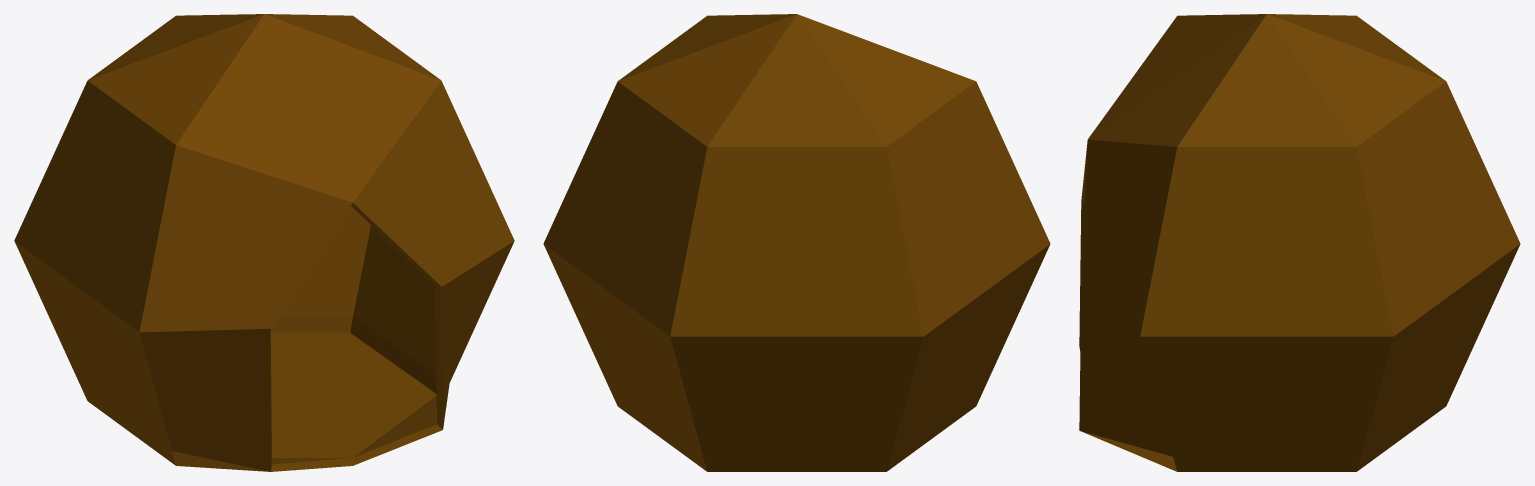
The model's file is TortoiseHut.fbx.
3 views of the same model, side by side, from view 1: azimuth 30°, elevation 25°; view 2: azimuth 150°, elevation 25°; view 3: azimuth 270°, elevation 25° (orthographic).
Visible parts, largest first — view 1: Sphere; view 2: Sphere; view 3: Sphere.
Part boxes in pixels (<box>): Sphere: <box>14,14,514,471</box>; Sphere: <box>543,14,1050,471</box>; Sphere: <box>1079,14,1520,471</box>.
Bounding box in the file's own units: 260 × 256 × 261.
